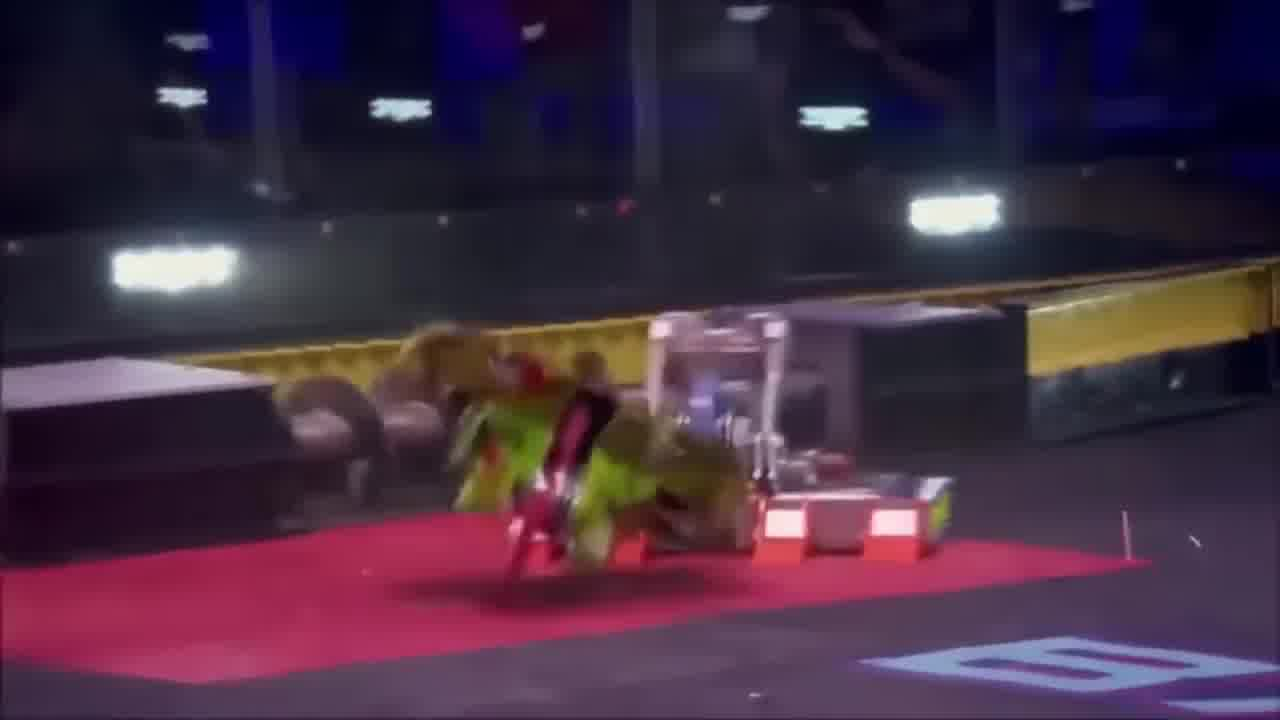combatbot: (393, 322, 762, 582), (647, 312, 952, 569)
